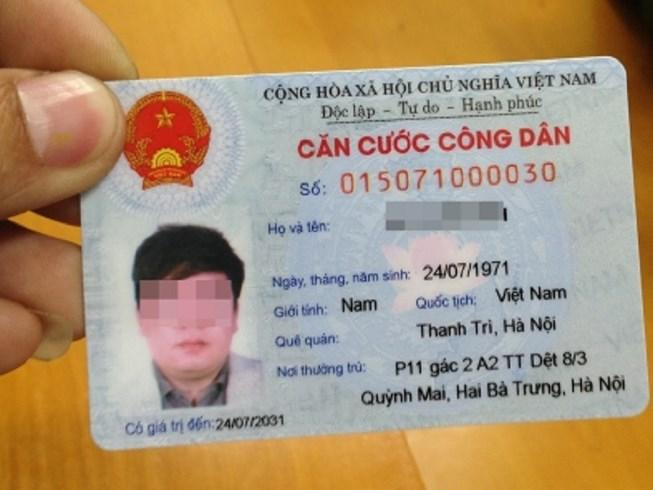bottom_left: (87, 435, 124, 458)
bottom_right: (631, 388, 653, 420)
image_person: (103, 215, 267, 406)
top_right: (601, 51, 633, 79)
